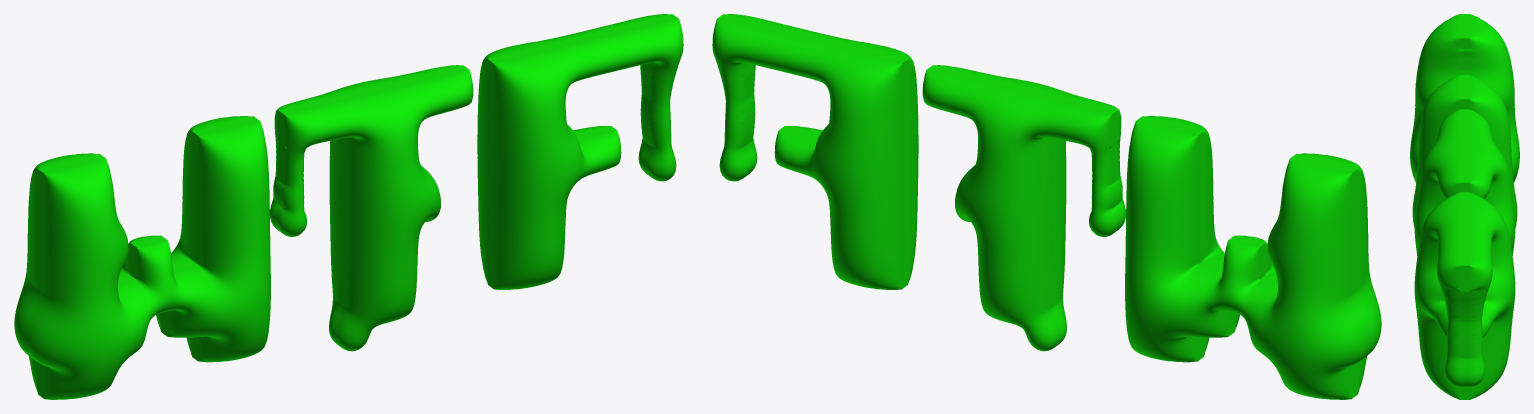
File: WTF-SNOT.glb
The picture shows the model from 3 angles, left to right: view 1: azimuth 30°, elevation 25°; view 2: azimuth 150°, elevation 25°; view 3: azimuth 270°, elevation 25°; orthographic projection. The views are drawn at different scales.
Visible parts, largest first — view 1: Mesh_1.007, Mesh_0.009, Mesh_2.004; view 2: Mesh_1.007, Mesh_0.009, Mesh_2.004; view 3: Mesh_0.009, Mesh_1.007, Mesh_2.004.
Part boxes in pixels (x1=…): Mesh_1.007: x1=14, y1=116, x2=270, y2=399; Mesh_0.009: x1=477, y1=14, x2=683, y2=289; Mesh_2.004: x1=270, y1=65, x2=473, y2=351; Mesh_1.007: x1=1125, y1=116, x2=1381, y2=399; Mesh_0.009: x1=712, y1=14, x2=918, y2=289; Mesh_2.004: x1=922, y1=65, x2=1125, y2=351; Mesh_0.009: x1=1414, y1=192, x2=1515, y2=399; Mesh_1.007: x1=1410, y1=14, x2=1519, y2=228; Mesh_2.004: x1=1414, y1=109, x2=1515, y2=255.
Bounding box in the file's own units: 0.0633 × 0.0233 × 0.0114.
